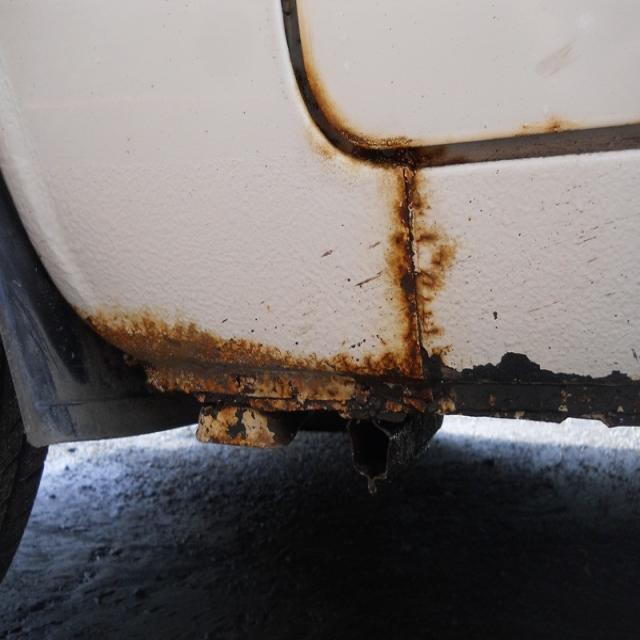Crevice Corrosion: (386, 165, 456, 377), (292, 55, 413, 158)
Uniform Corrosion: (87, 311, 454, 463)
